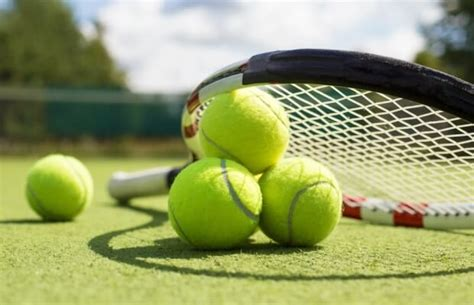tennis_ball: (166, 156, 263, 251), (198, 85, 290, 174), (256, 157, 343, 246), (24, 153, 94, 222)
